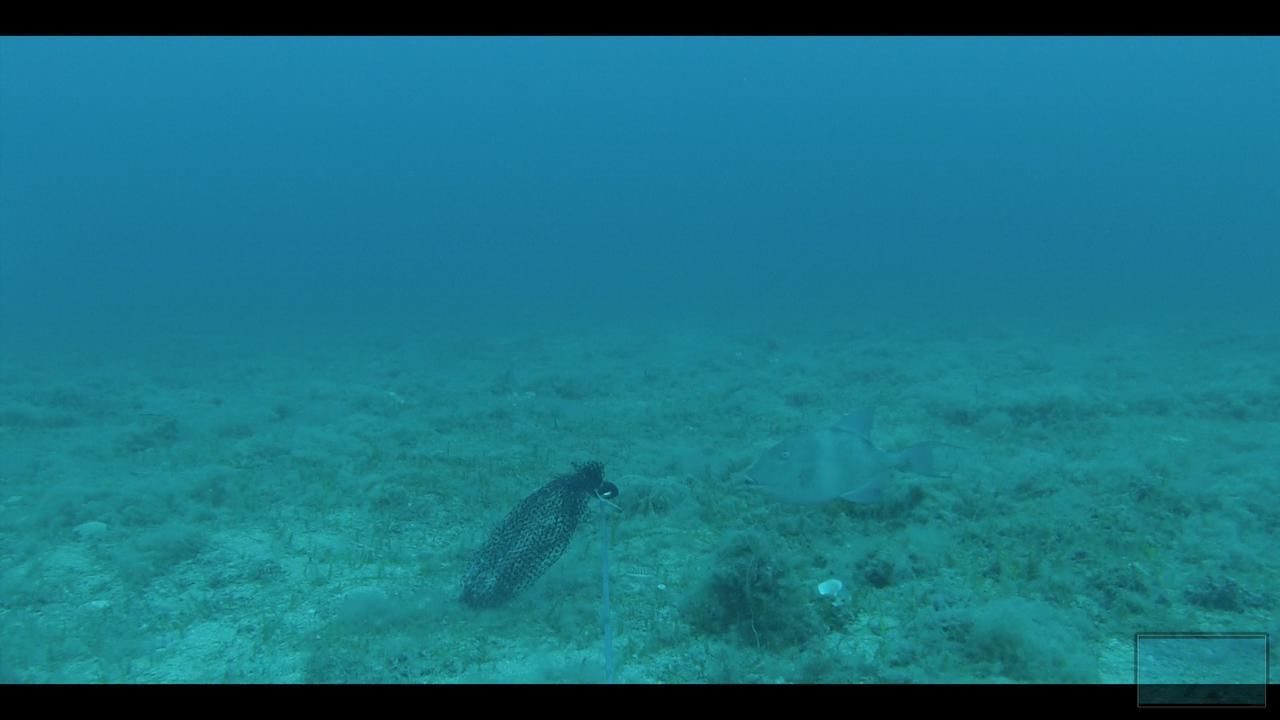balistes: (735, 402, 970, 509)
